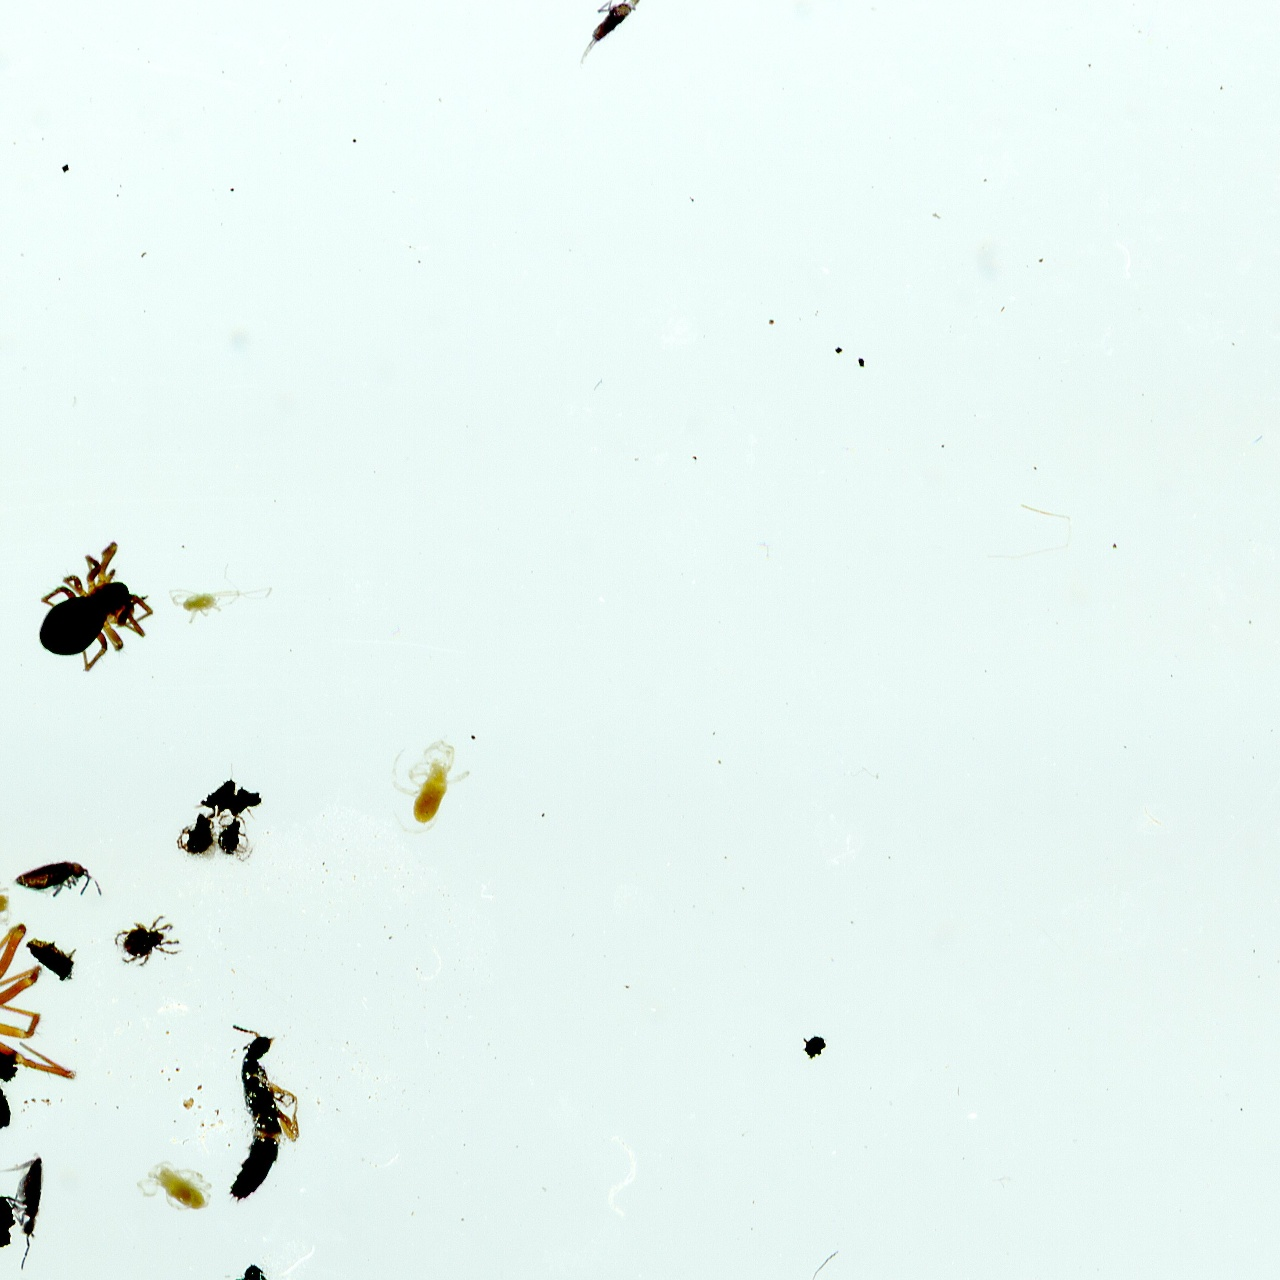arthropod: (0, 876, 119, 1130), (34, 540, 155, 676), (227, 1021, 300, 1206), (386, 733, 473, 838), (167, 560, 275, 627), (560, 0, 651, 76), (0, 1146, 50, 1275), (10, 851, 106, 916), (134, 1159, 212, 1212), (110, 914, 181, 968), (216, 805, 257, 865), (176, 812, 221, 863), (0, 1054, 22, 1138), (0, 852, 13, 926)
